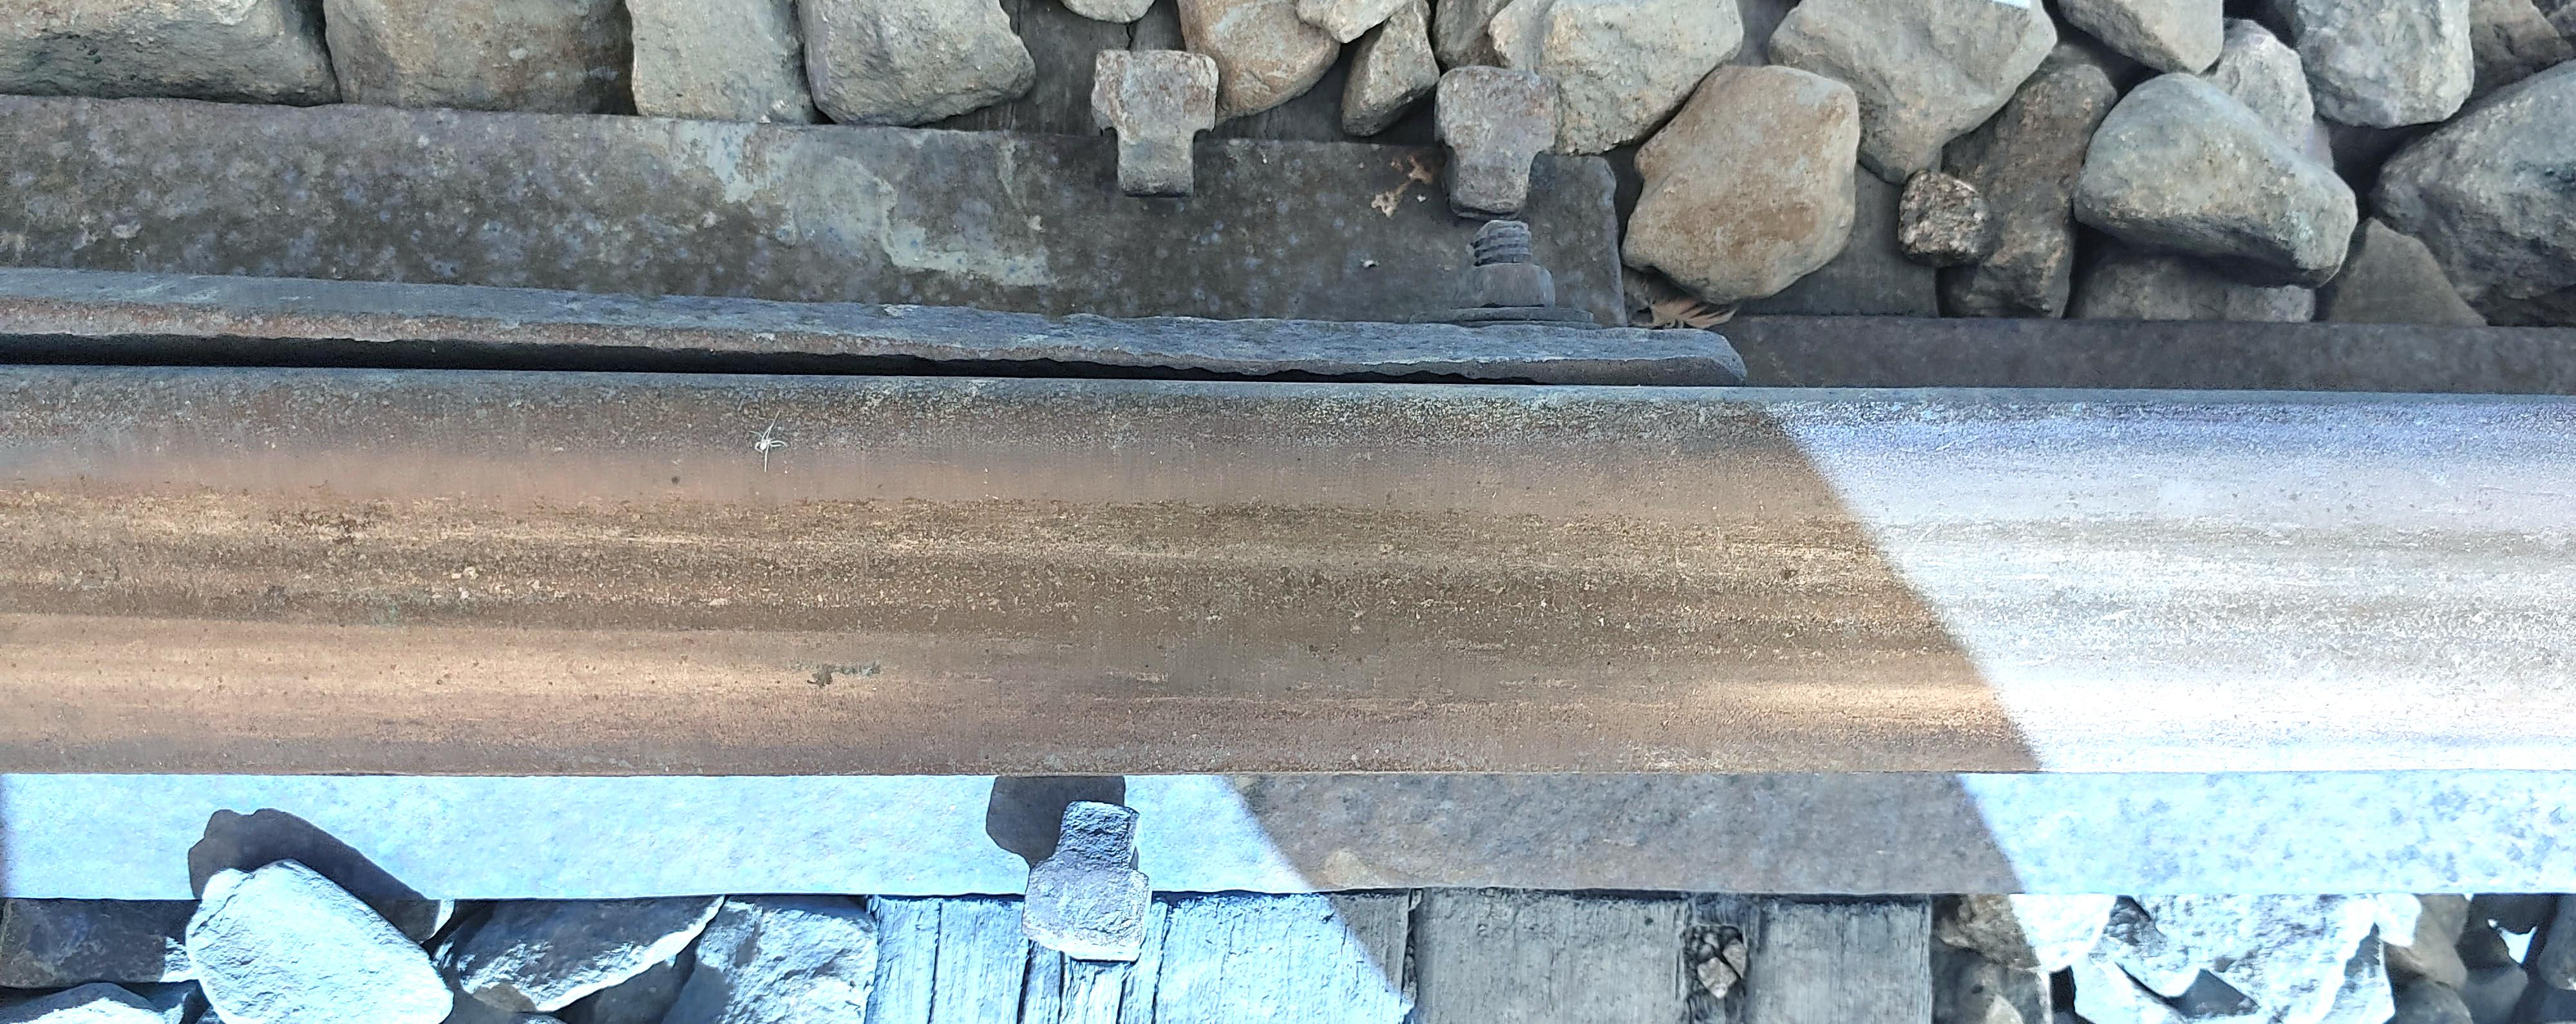error1: (1025, 796, 1257, 989), (1081, 25, 1260, 227)
